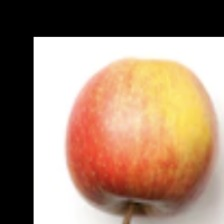apple: (35, 46, 223, 207)
